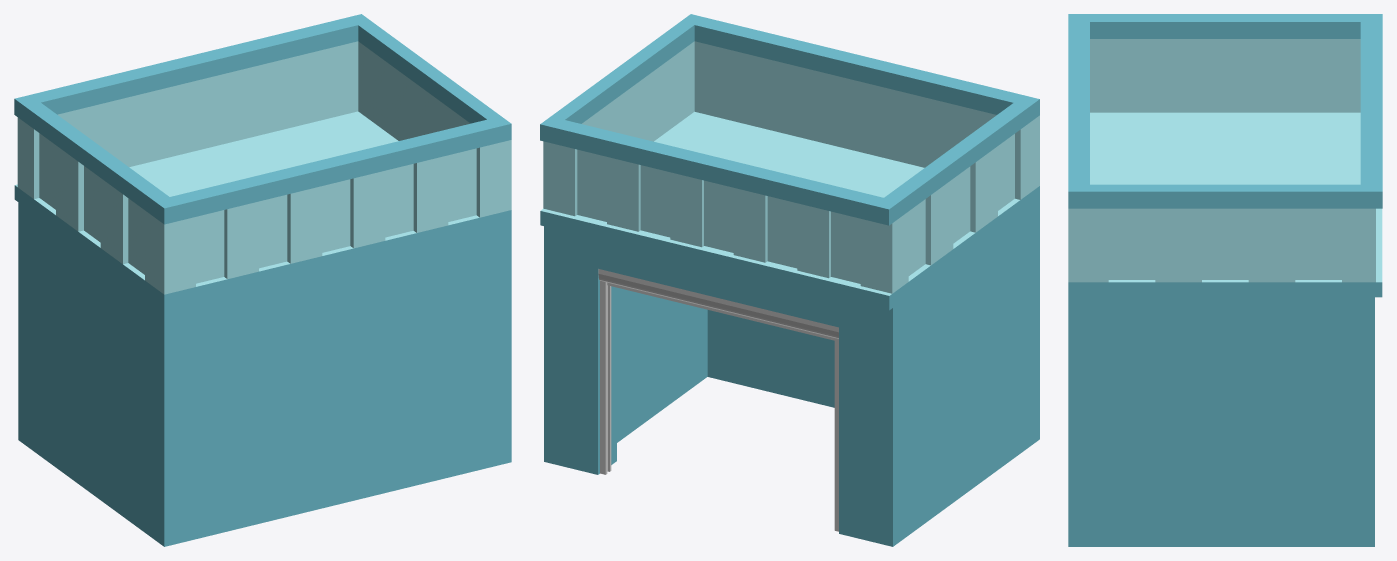
The model's file is smallshop.fbx.
The picture shows the model from 3 angles, left to right: view 1: azimuth 30°, elevation 25°; view 2: azimuth 150°, elevation 25°; view 3: azimuth 270°, elevation 25°; orthographic projection. The views are drawn at different scales.
Visible parts, largest first — view 1: smallshop, Roof; view 2: Roof, smallshop, Cube.360, Cube.358, Cube.361, Cube.359; view 3: Roof, smallshop.
Part boxes in pixels (x1,y1,x2,y2): smallshop: [18, 189, 511, 546]; Roof: [14, 14, 511, 308]; Roof: [540, 14, 1039, 310]; smallshop: [544, 187, 1039, 546]; Cube.360: [598, 269, 838, 338]; Cube.358: [600, 280, 611, 474]; Cube.361: [834, 338, 838, 531]; Cube.359: [607, 282, 834, 340]; Roof: [1068, 14, 1382, 297]; smallshop: [1068, 283, 1374, 546].
Bounding box in the file's own units: 9.09 × 8.47 × 6.8.
